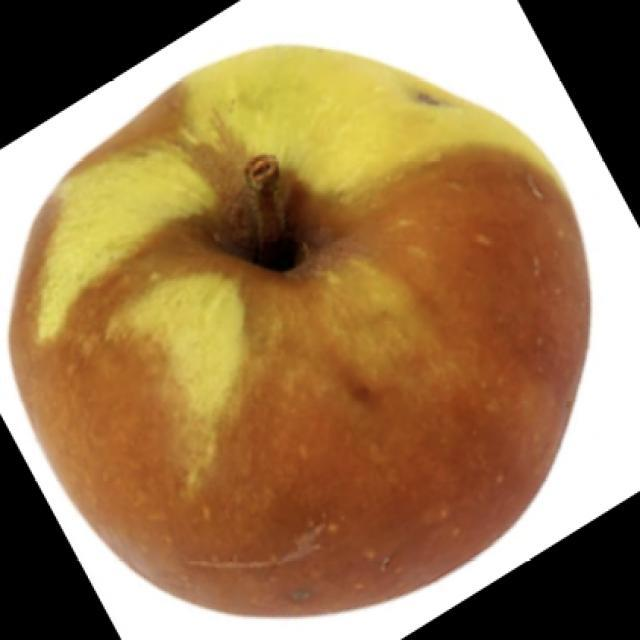Rotten: (28, 51, 592, 622)
